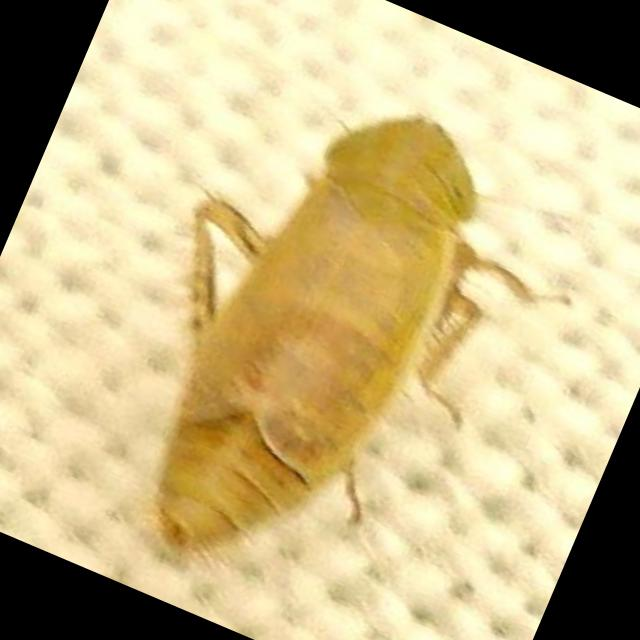green-leafhopper: (84, 53, 551, 620)
